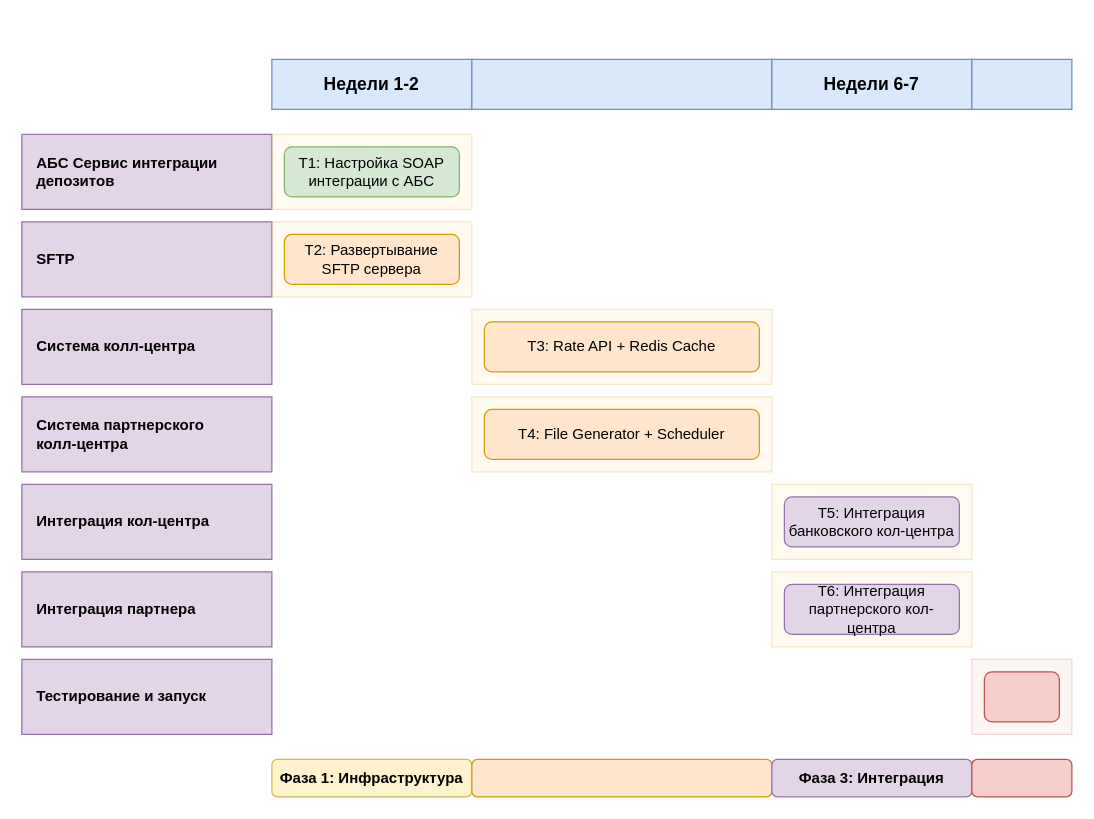
Image size: 1094x819. Some labels were removed from this diagram. The shapes that lost their labels are listed below. From the top down, each one's centre as x and y in pixels, then its label:
[621,83]: Недели 3-5
[1021,83]: Неделя 8
[1021,696]: T7: Testing & Go-Live
[621,777]: Фаза 2: Разработка
[1021,777]: Фаза 4: Testing
